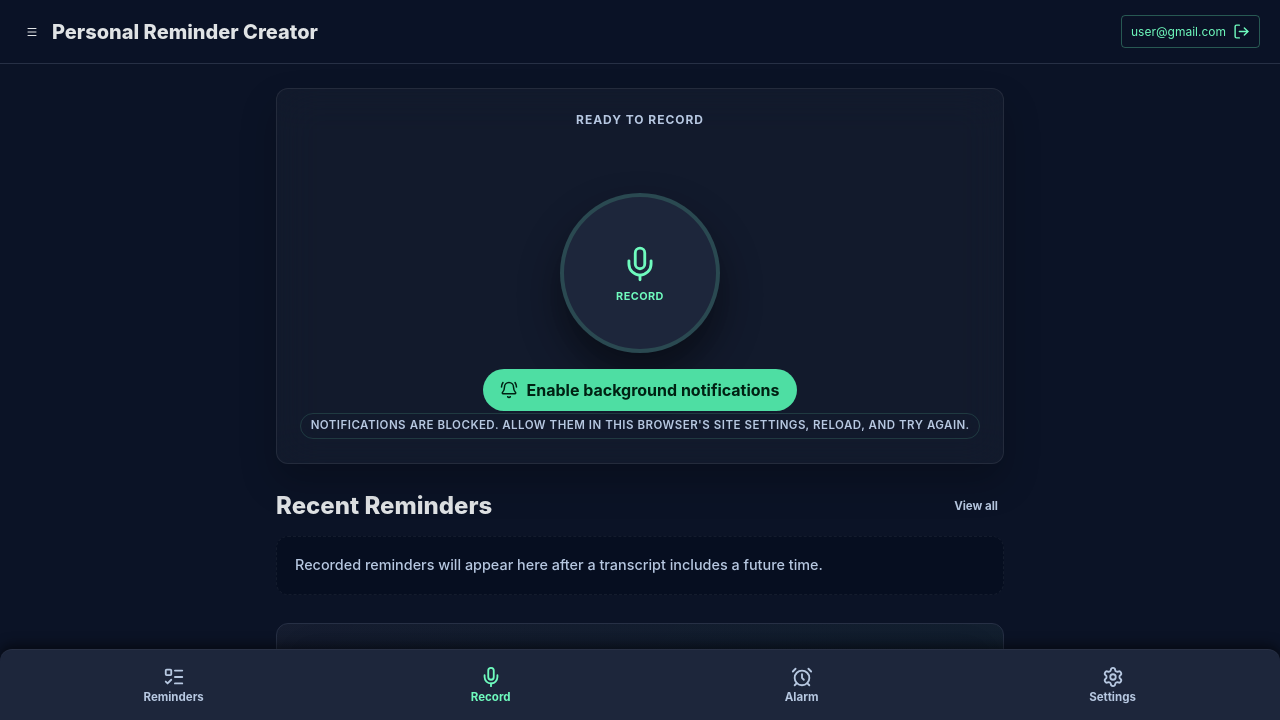
Test: App › stops the recorder and releases the microphone tracks
Click the button with aria-label "record audio" at (640,273), box [560,193,720,353]
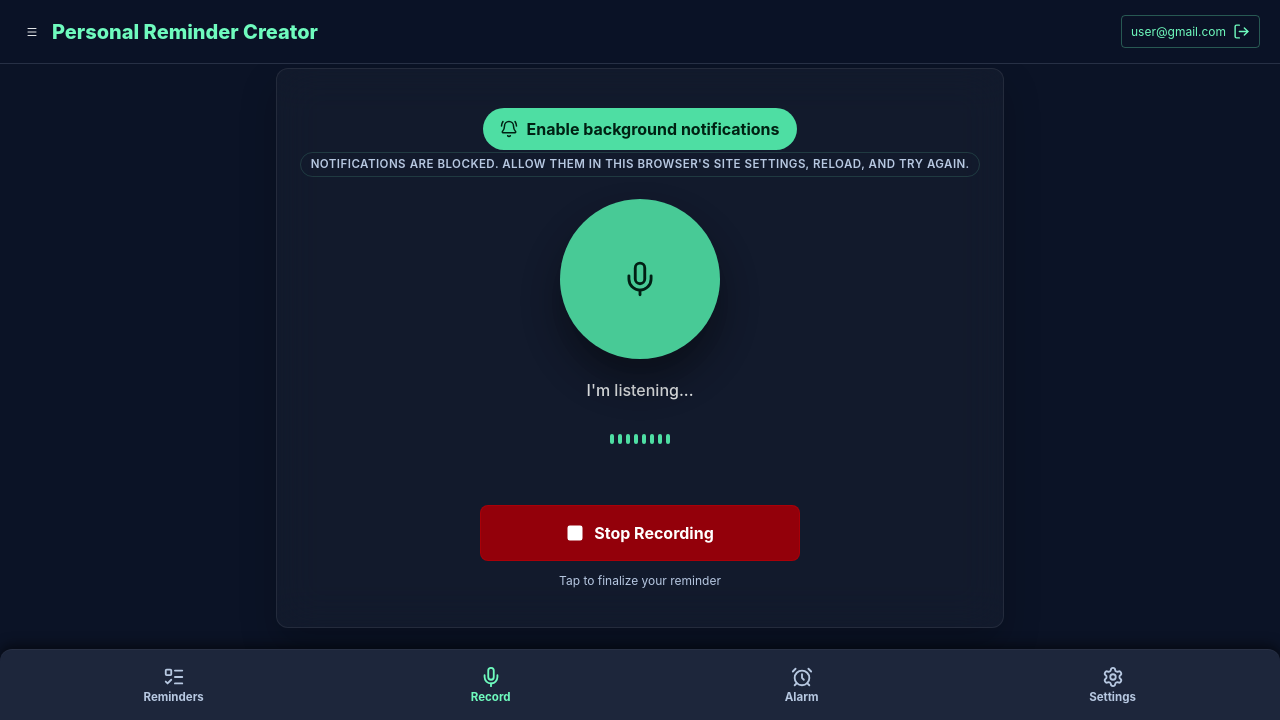
Click the button "Stop Recording" at (640,533), box [480,505,800,561]
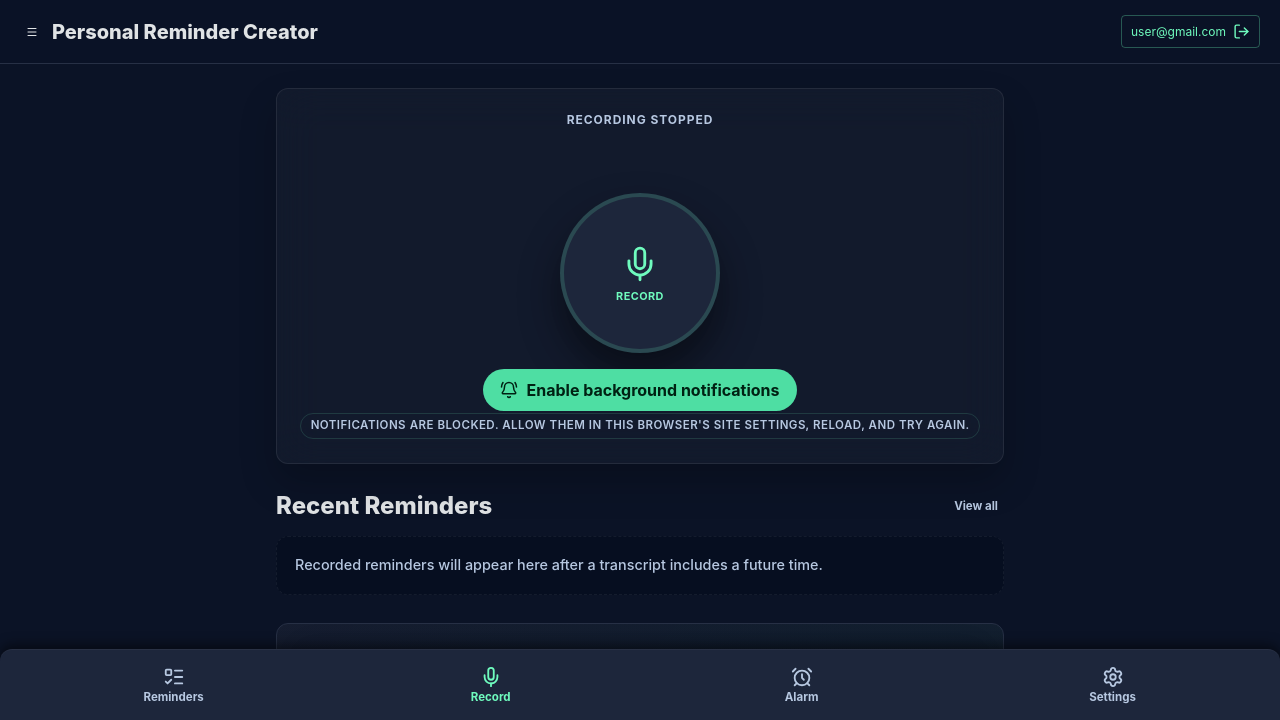
Now the text "Recording stopped" is shown, box [567,113,713,133]
